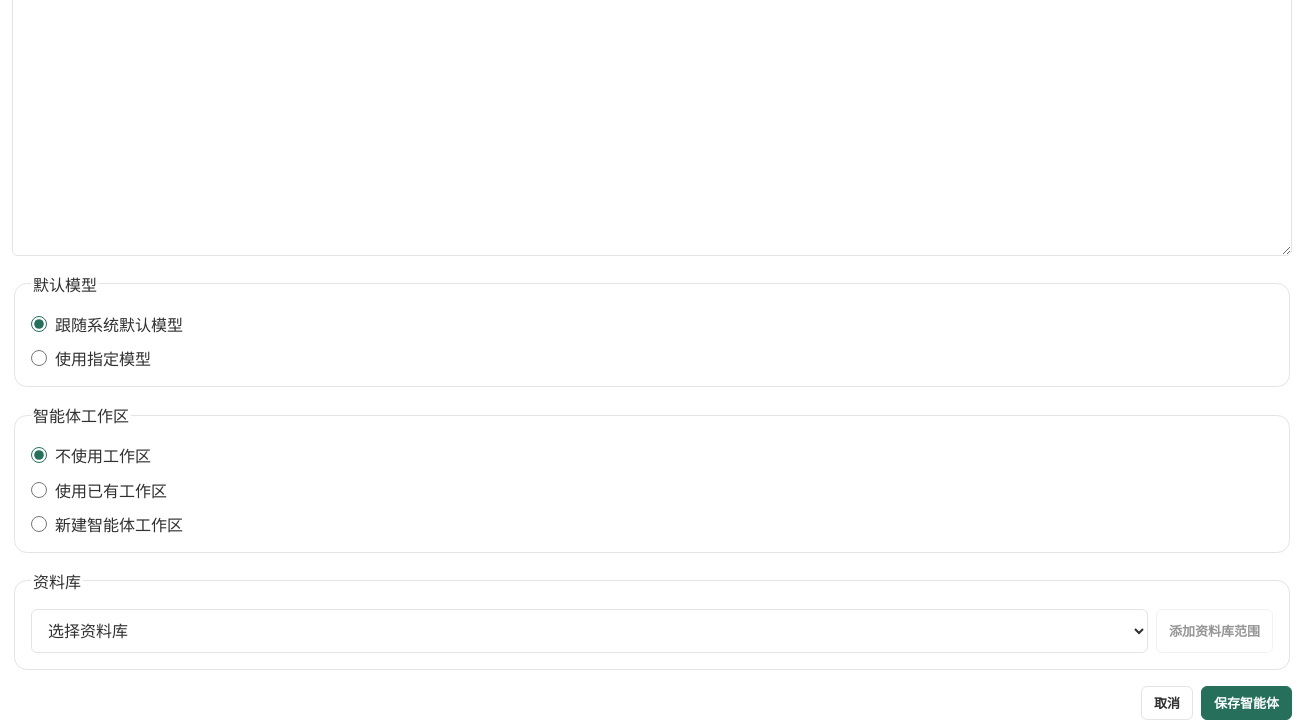
AgentForm › uses complete Chinese resources without falling back to English
(page scrolled)
Expected: the radio button labelled "跟随系统默认模型" is shown, [31,316,47,332]
Expected: the radio button labelled "新建智能体工作区" is shown, [31,516,47,532]
Step 1. Select "Engineering handbook" in the dropdown named "添加资料库" → coordinates (590, 631), box [31,609,1148,653]
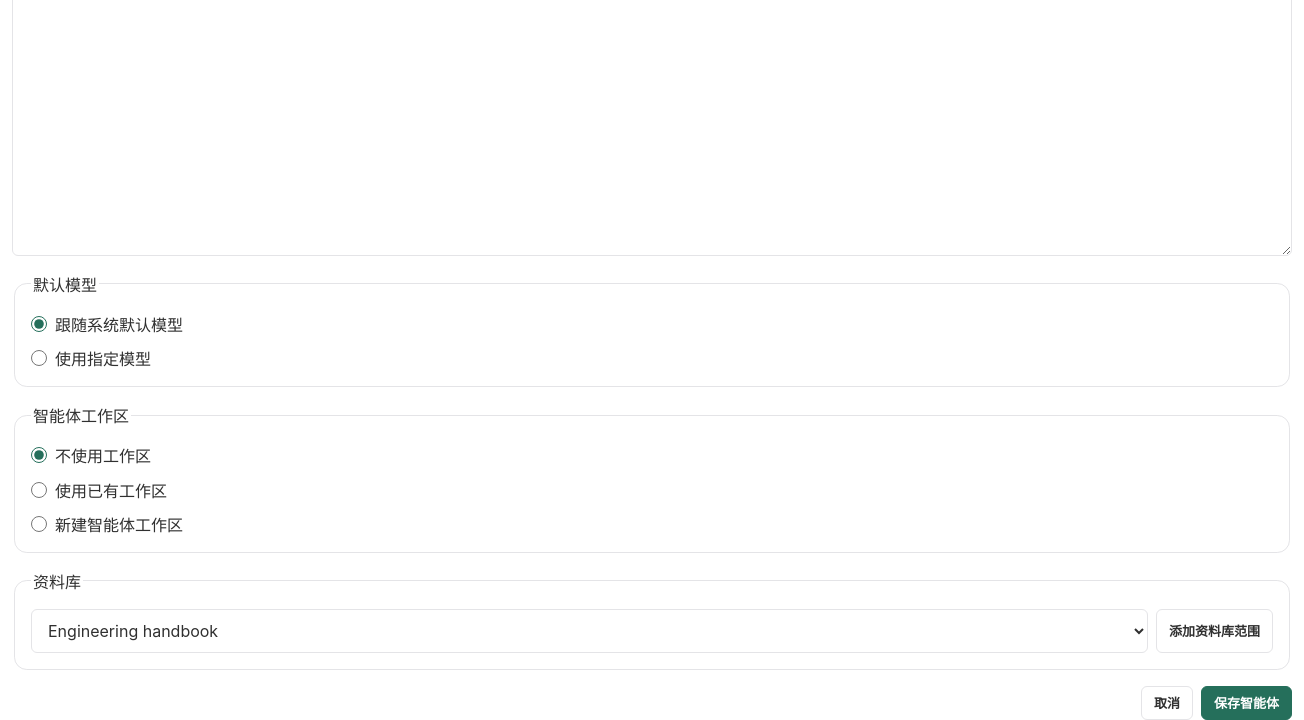
Step 2. Click the button "添加资料库范围" → coordinates (1214, 631), box [1156,609,1273,653]
(page scrolled)
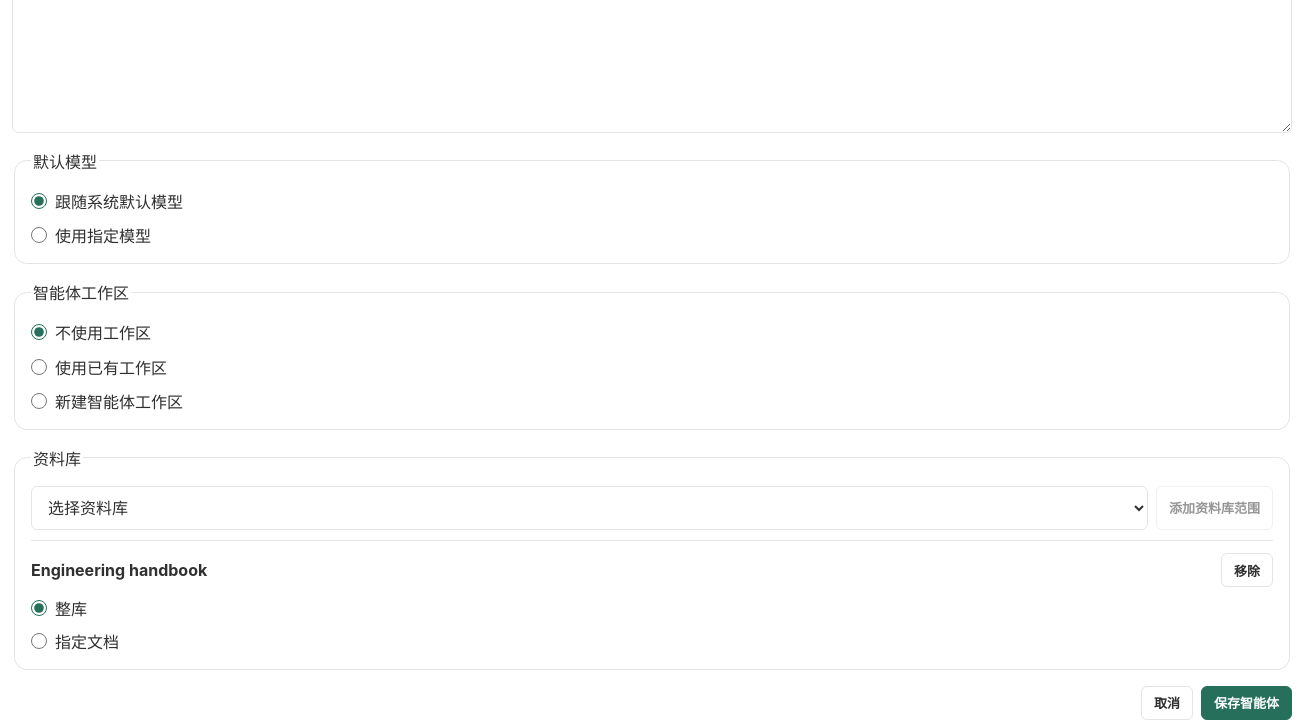
Expected: the button "保存智能体" is shown, [1201,686,1292,719]
Expected: the text "整库" is shown, [31,599,87,619]
